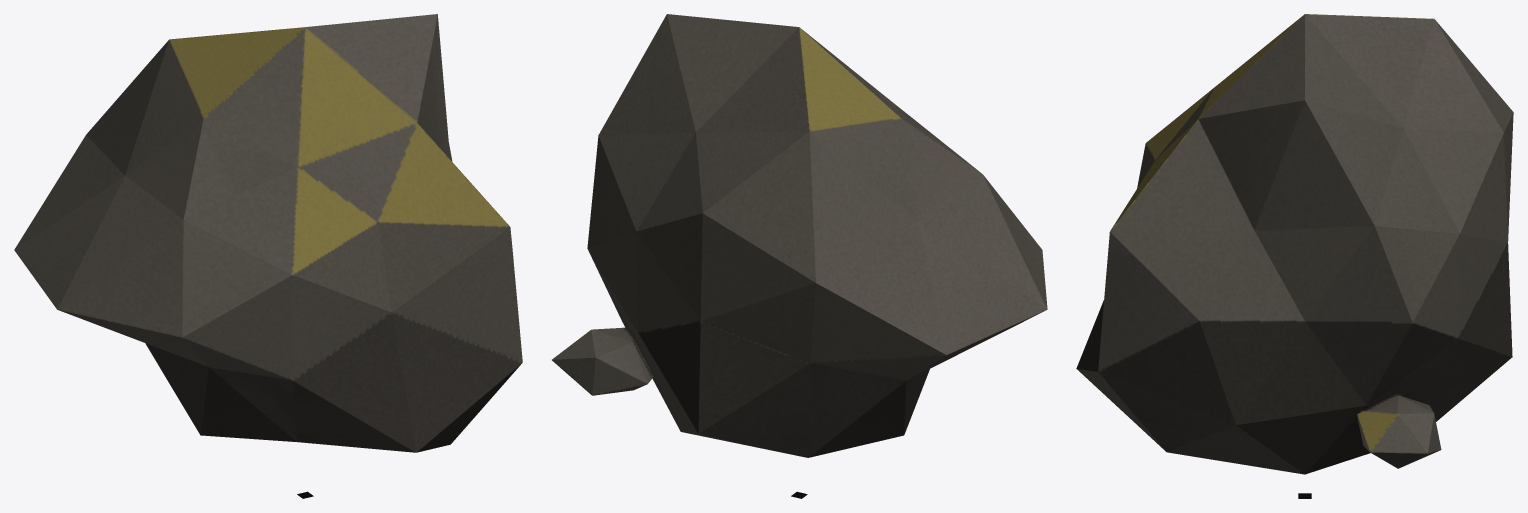
Rendered from feature_rock_3.fbx.
3 renders of one model, left to right at view 1: azimuth 30°, elevation 25°; view 2: azimuth 150°, elevation 25°; view 3: azimuth 270°, elevation 25°, orthographic. The views are drawn at different scales.
Parts seen in each view (by area): view 1: base_bar; view 2: base_bar; view 3: base_bar.
Part boxes in pixels (x1,y1,x2,y2): base_bar: [14, 14, 522, 452]; base_bar: [552, 14, 1047, 457]; base_bar: [1076, 14, 1513, 474].
Size of the model in its own units: 792 by 812 by 667.
Materials: 2 (2 with a texture image).
